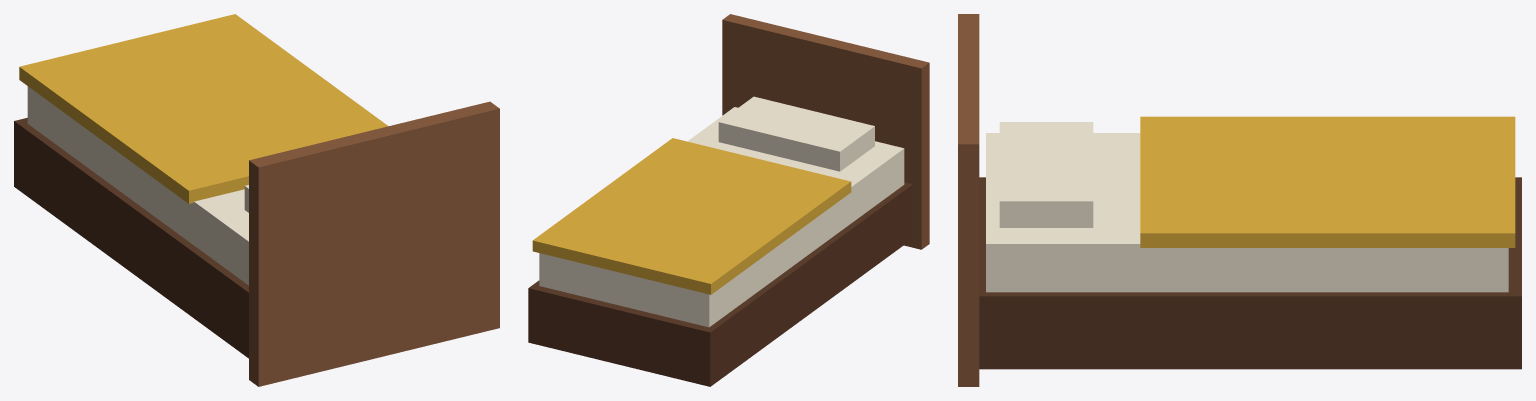
The model's file is bed.glb.
3 views of the same model, side by side, from view 1: azimuth 30°, elevation 25°; view 2: azimuth 150°, elevation 25°; view 3: azimuth 270°, elevation 25° (orthographic). The views are drawn at different scales.
Visible parts, largest first — view 1: Box5, Box3, Box1, Box2; view 2: Box3, Box1, Box5, Box2, Box4; view 3: Box3, Box1, Box2, Box4, Box5.
Part boxes in pixels (x1,y1,x2,y2): Box5: [249, 101, 499, 386]; Box3: [19, 14, 388, 203]; Box1: [14, 117, 248, 358]; Box2: [27, 86, 248, 285]; Box3: [532, 138, 851, 294]; Box1: [528, 182, 912, 386]; Box5: [722, 14, 929, 249]; Box2: [539, 107, 904, 327]; Box4: [718, 96, 874, 171]; Box3: [1140, 116, 1515, 247]; Box1: [979, 177, 1521, 369]; Box2: [986, 133, 1508, 292]; Box4: [999, 122, 1093, 227]; Box5: [958, 14, 979, 386].
Bounding box in the file's own units: 1.15 × 1 × 2.11.
